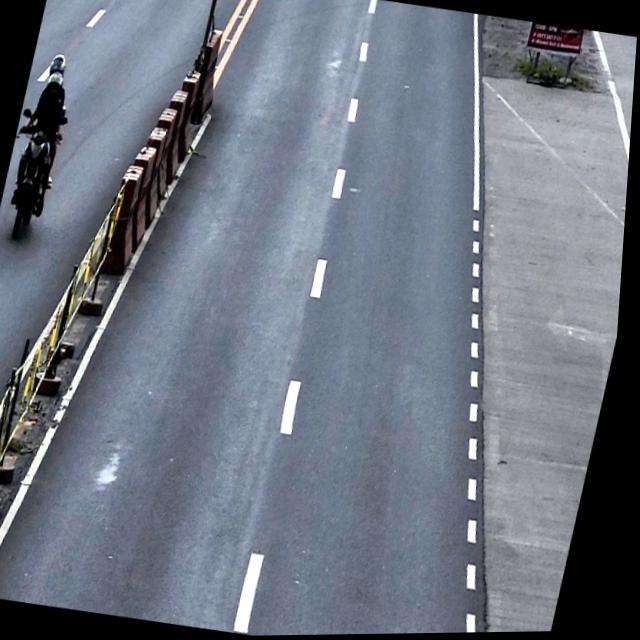Motorcycle: (0, 105, 74, 244)
